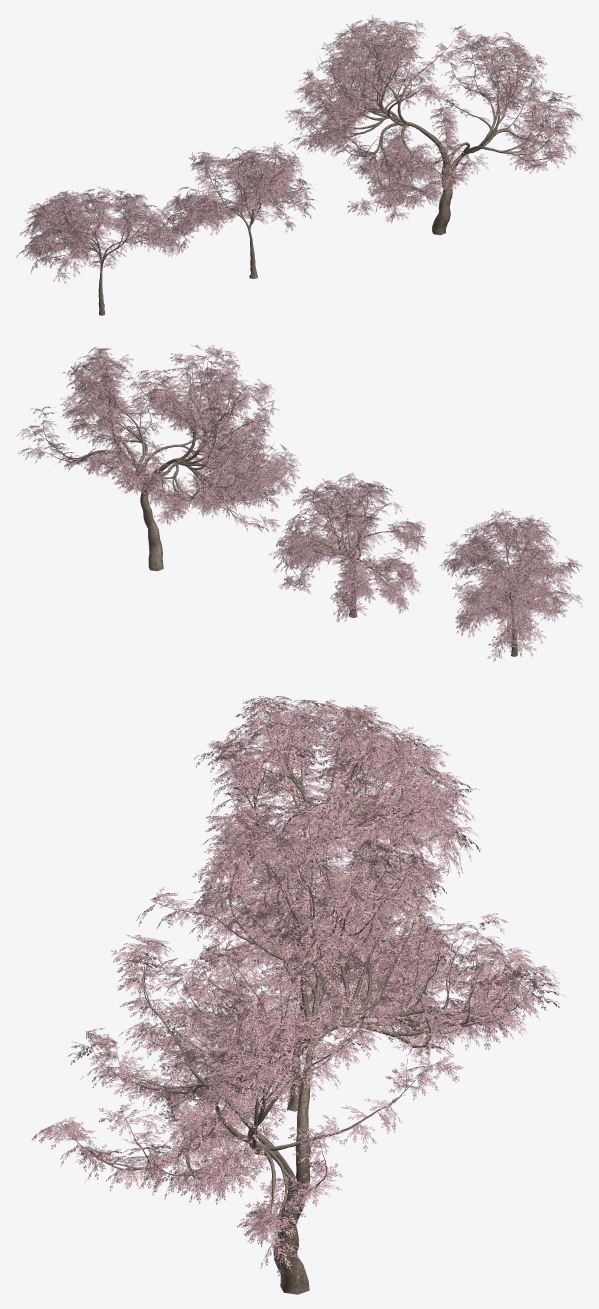
The model's file is cherry_blossom_trees.glb.
3 views of the same model, one above another, from view 1: azimuth 30°, elevation 25°; view 2: azimuth 150°, elevation 25°; view 3: azimuth 270°, elevation 25° (orthographic). The views are drawn at different scales.
Visible parts, largest first — view 1: foliage.001_5, foliage.002_7, foliage_3, structure.001_4, structure.002_6, structure_2; view 2: foliage.001_5, foliage_3, foliage.002_7, structure.001_4, structure_2, structure.002_6; view 3: foliage.001_5, foliage.002_7, structure.001_4, foliage_3, structure.002_6, structure_2.
Boxes of the visible parts, box(x1,y1,x2,y2) form: foliage.001_5: box(284, 15, 583, 223); foliage.002_7: box(16, 186, 184, 284); foliage_3: box(161, 142, 317, 253); structure.001_4: box(292, 20, 565, 235); structure.002_6: box(29, 195, 169, 315); structure_2: box(174, 152, 300, 278); foliage.001_5: box(16, 344, 301, 533); foliage_3: box(269, 473, 426, 622); foliage.002_7: box(439, 508, 583, 661); structure.001_4: box(28, 356, 288, 571); structure_2: box(294, 481, 410, 617); structure.002_6: box(455, 518, 569, 656); foliage.001_5: box(31, 799, 565, 1276); foliage.002_7: box(192, 695, 481, 899); structure.001_4: box(67, 807, 536, 1294); foliage_3: box(154, 839, 464, 1057); structure.002_6: box(217, 709, 453, 960); structure_2: box(189, 875, 430, 1111).
Bounding box in the file's own units: 257 × 97.54 × 112.
2 materials, 2 textured.
